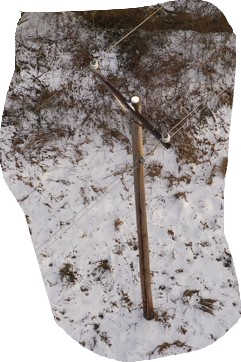pole: (79, 53, 171, 322)
